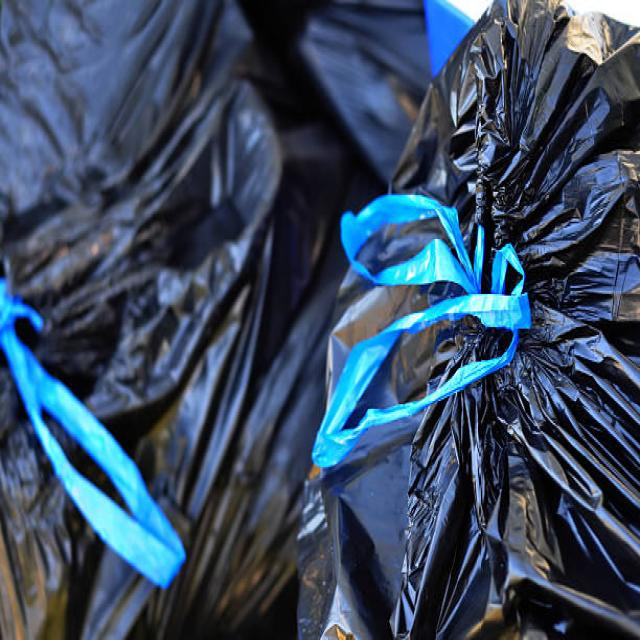trash: (4, 14, 620, 629)
